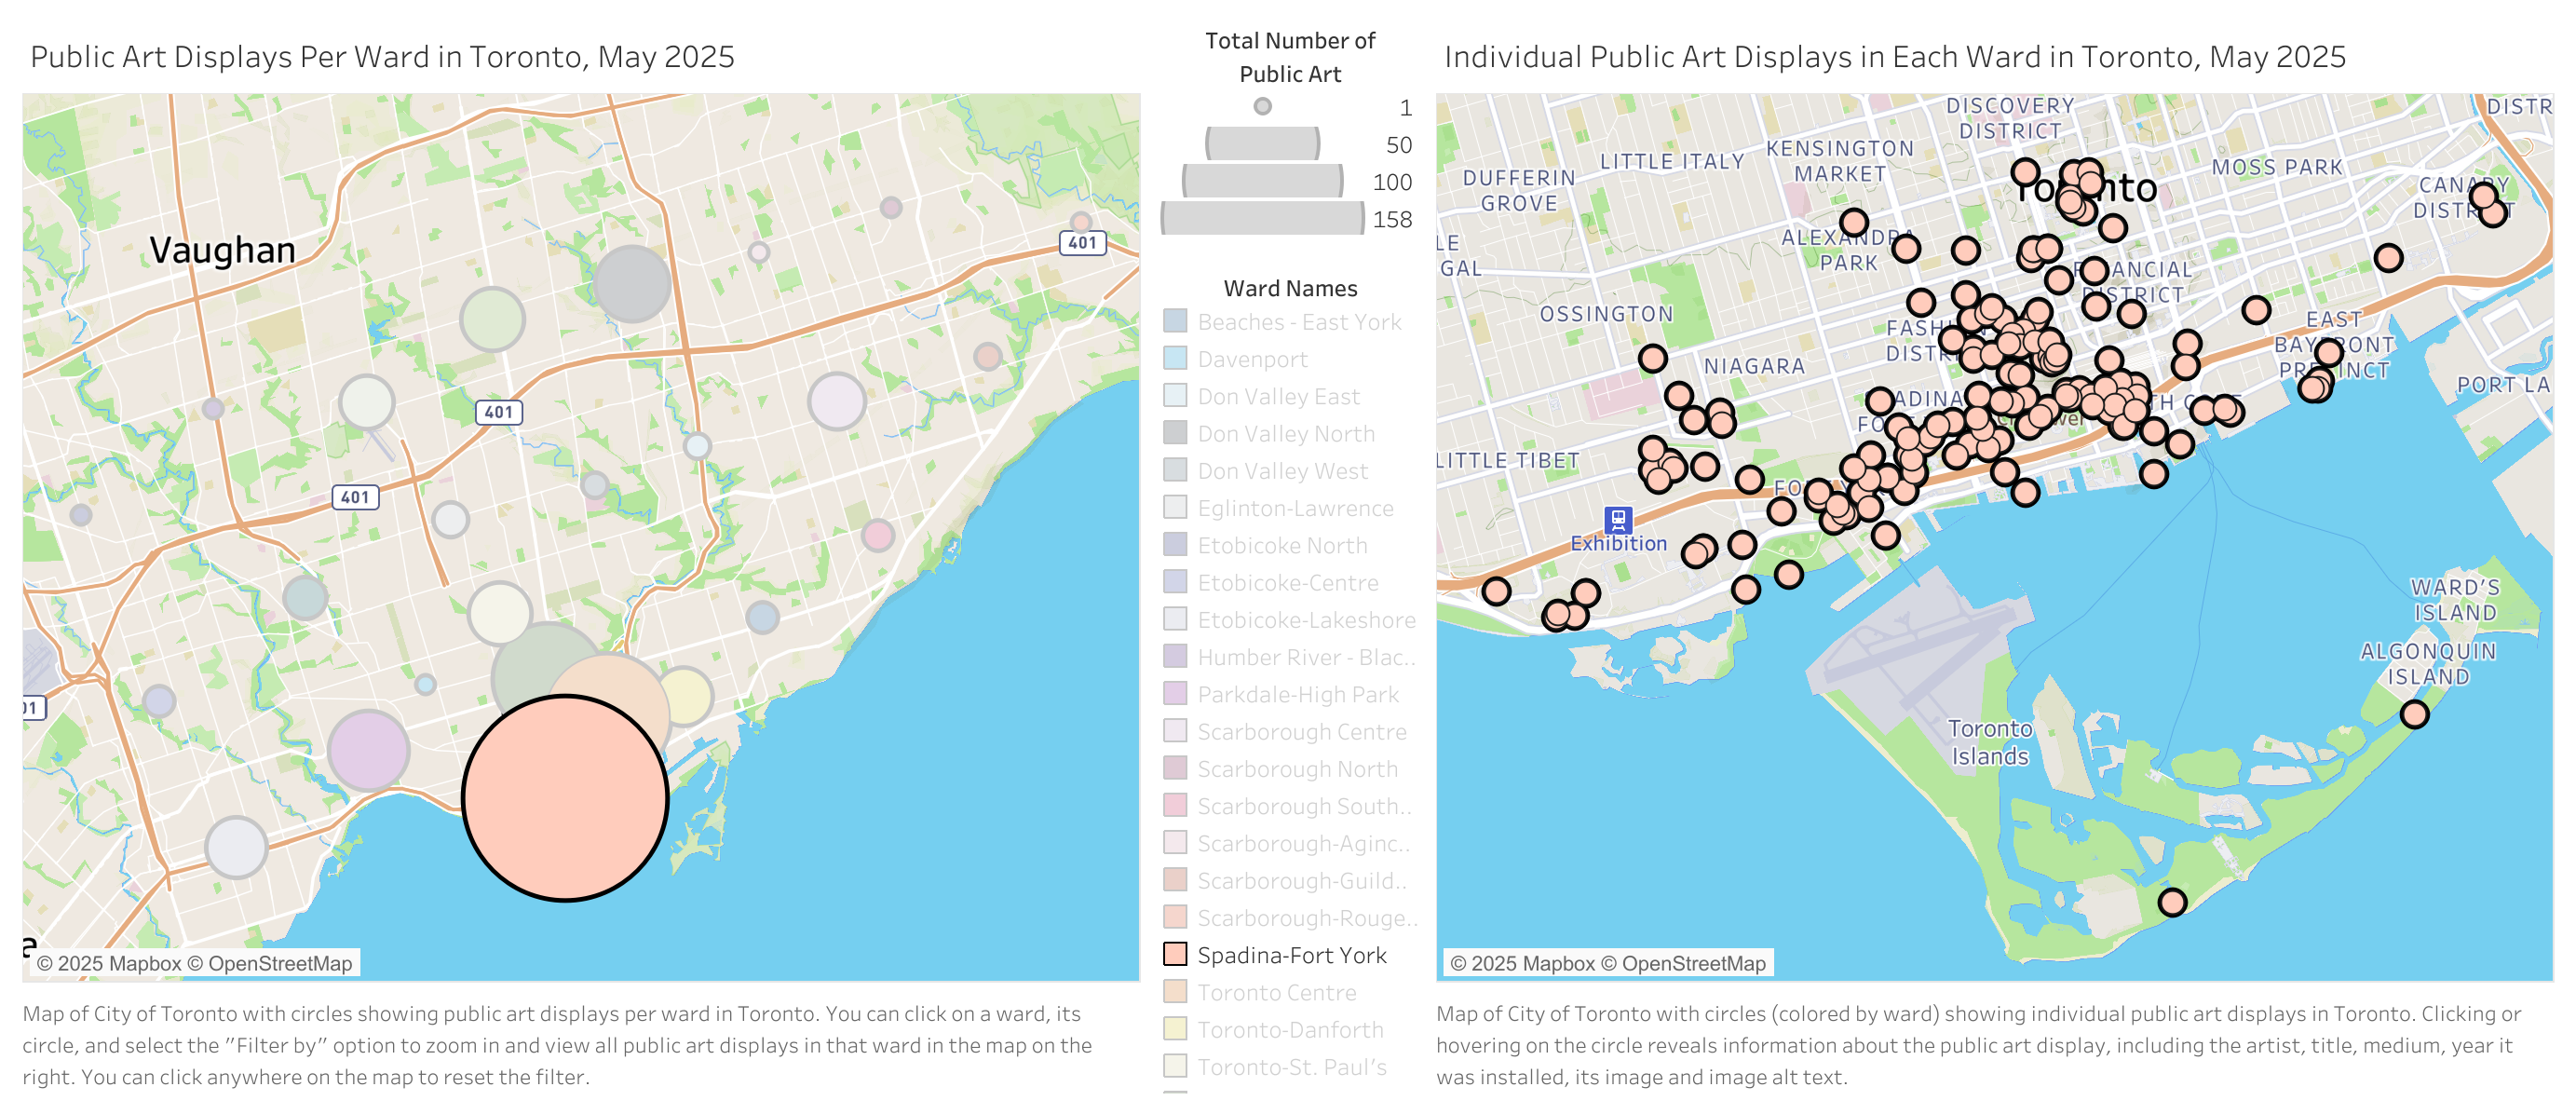

This screenshot's page, from the dashboard's own definition file:
{"tool":"tableau","page":{"name":"Dashboard","canvas":[1000,1000],"units":"permille","ordinal":0},"visuals":[{"type":"worksheet","title":"art_per_ward_dashboard","mark":"Automatic","rows":["Latitude"],"cols":["Longitude"],"box":[6.5,12.2,432.9,975.5]},{"type":"legend","title":"art_per_ward_dashboard","param":"[federated.0drga1m02bv1wd1ezt7pq1d8nq4p].[none:Count of Public Art:qk]","box":[439.4,12.2,121.2,200.3]},{"type":"worksheet","title":"all_art_pieces_dashboard","mark":"Circle","rows":["Lattitude"],"cols":["Longitude"],"box":[560.6,12.2,432.9,975.5]},{"type":"legend","title":"art_per_ward_dashboard","param":"[federated.0drga1m02bv1wd1ezt7pq1d8nq4p].[none:Ward Fullname:nk]","box":[439.4,212.5,121.2,775.2]}]}

Visuals, with their boxes on the dashboard's canvas, which has no fixed pixel size, in thousandths of its width and height (x1, y1, x2, y2). These are canvas units, not pixel positions in the 2576x1114 screenshot, which may show the page scaled, cropped or inside an application window:
"art_per_ward_dashboard" worksheet: bbox=(6, 12, 439, 988)
"art_per_ward_dashboard" legend: bbox=(439, 12, 561, 212)
"all_art_pieces_dashboard" worksheet (Circle marks): bbox=(561, 12, 994, 988)
"art_per_ward_dashboard" legend: bbox=(439, 212, 561, 988)
